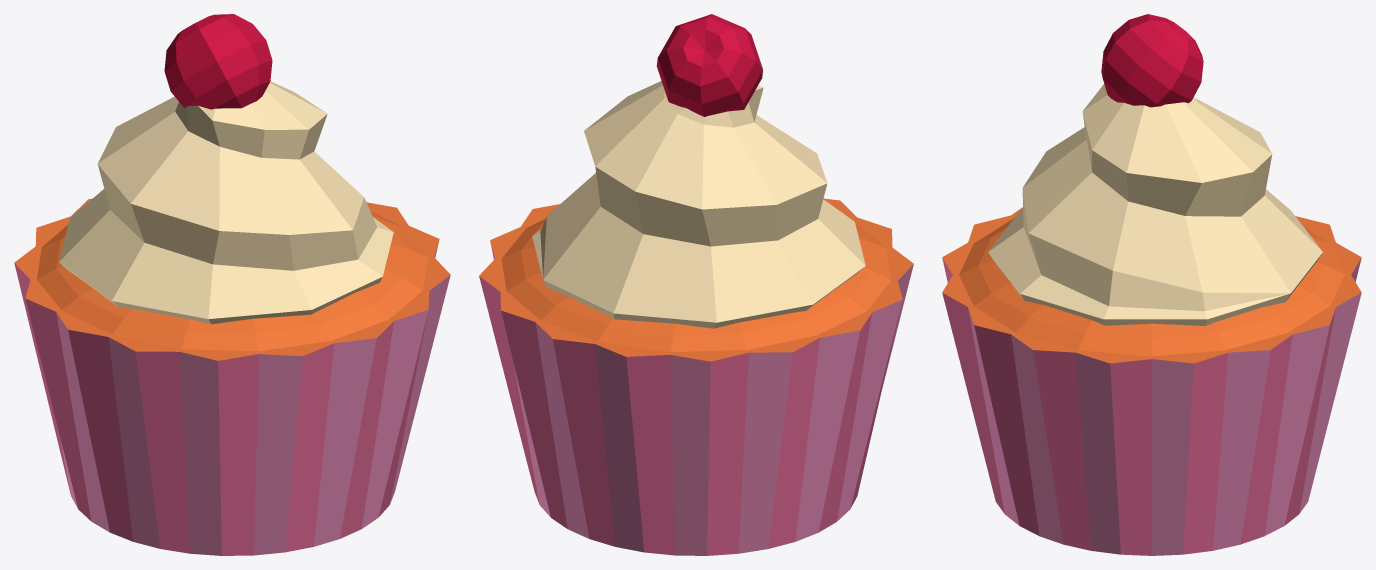
The model's file is BlumbCupcakeModel.fbx.
3 renders of one model, left to right at view 1: azimuth 30°, elevation 25°; view 2: azimuth 150°, elevation 25°; view 3: azimuth 270°, elevation 25°, orthographic. The views are drawn at different scales.
Visible parts, largest first — view 1: BlumbCupcakeMesh, BlumbCupcakeCremeMesh, BlumbCupcakeCherryMesh; view 2: BlumbCupcakeMesh, BlumbCupcakeCremeMesh, BlumbCupcakeCherryMesh; view 3: BlumbCupcakeMesh, BlumbCupcakeCremeMesh, BlumbCupcakeCherryMesh.
Boxes of the visible parts, left/top/right/bottom form: BlumbCupcakeMesh: left=14, top=198, right=450, bottom=555; BlumbCupcakeCremeMesh: left=59, top=81, right=393, bottom=324; BlumbCupcakeCherryMesh: left=164, top=14, right=272, bottom=109; BlumbCupcakeMesh: left=479, top=198, right=913, bottom=555; BlumbCupcakeCremeMesh: left=532, top=81, right=865, bottom=328; BlumbCupcakeCherryMesh: left=656, top=14, right=762, bottom=116; BlumbCupcakeMesh: left=942, top=207, right=1361, bottom=555; BlumbCupcakeCremeMesh: left=988, top=84, right=1322, bottom=325; BlumbCupcakeCherryMesh: left=1101, top=14, right=1203, bottom=107.
Size of the model in its own units: 52.7 by 64.18 by 52.7.
